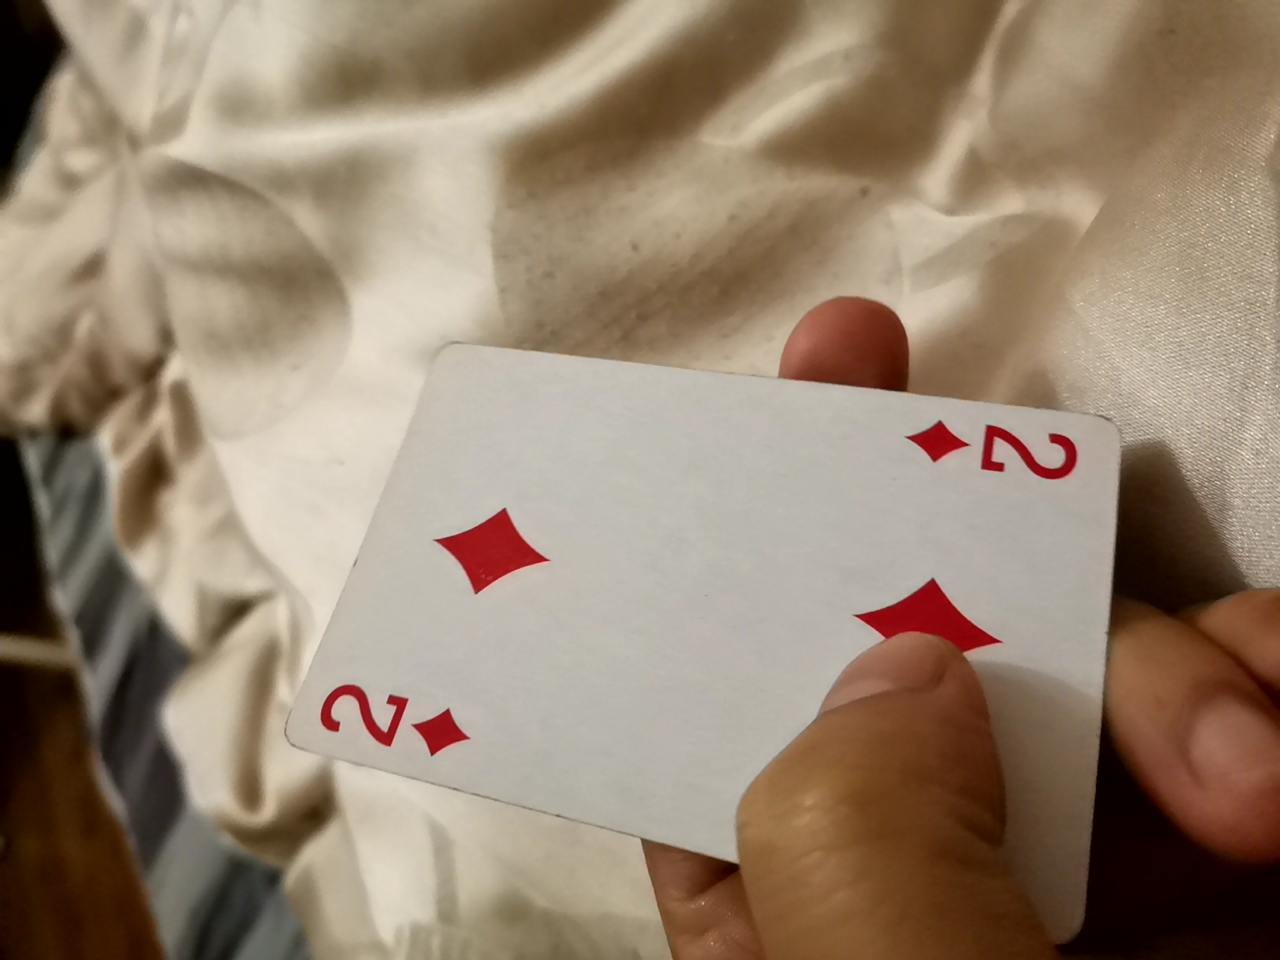fk 2: (262, 325, 1110, 859)
